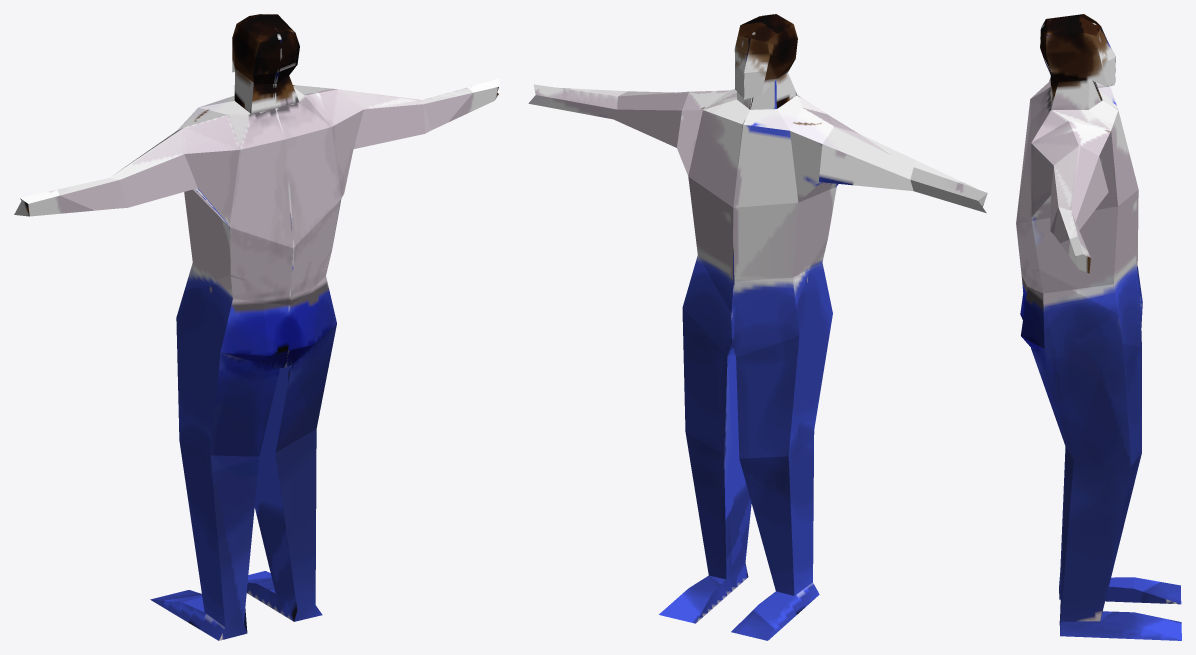
File: player_t.obj
The picture shows the model from 3 angles, left to right: view 1: azimuth 30°, elevation 25°; view 2: azimuth 150°, elevation 25°; view 3: azimuth 270°, elevation 25°; orthographic projection. The views are drawn at different scales.
Visible parts, largest first — view 1: Cube.001; view 2: Cube.001; view 3: Cube.001.
Part boxes in pixels (<box>): Cube.001: <box>14,14,499,640</box>; Cube.001: <box>528,14,987,640</box>; Cube.001: <box>1016,14,1181,640</box>.
Bounding box in the file's own units: 2.45 × 2.92 × 0.7368.
